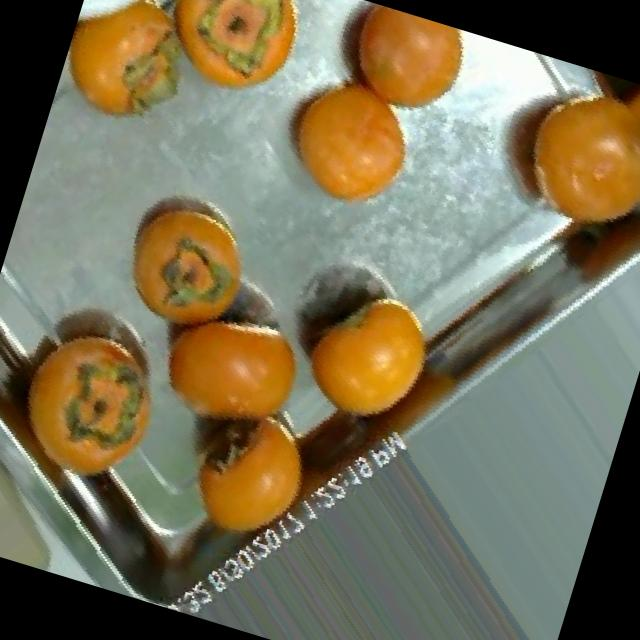Fruit: (125, 268, 343, 468), (447, 39, 640, 264), (265, 253, 471, 456), (86, 160, 287, 362), (246, 42, 445, 235), (113, 0, 331, 126), (302, 0, 494, 139), (48, 0, 219, 152)
